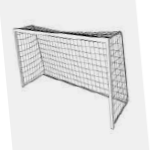goals: (12, 22, 132, 131)
